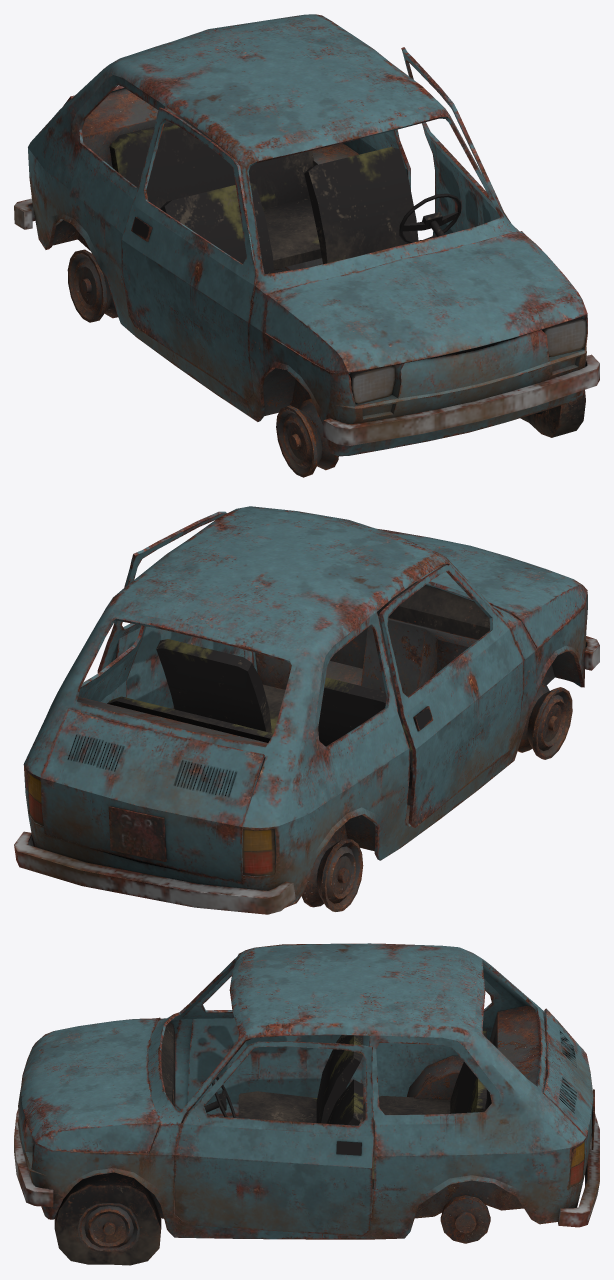
The model's file is fiat126p_artstation.dae.
The picture shows the model from 3 angles, top to bottom: view 1: azimuth 30°, elevation 25°; view 2: azimuth 150°, elevation 25°; view 3: azimuth 270°, elevation 25°; orthographic projection. The views are drawn at different scales.
Visible parts, largest first — view 1: body, floor, trunk, doors.001, axle_front, doors, axle_rear; view 2: body, hood, floor, doors.001, trunk, doors, axle_rear, axle_front; view 3: body, doors, floor, trunk, doors.001, axle_front, hood, axle_rear.
Boxes of the visible parts, left/top/right/bottom form: body: left=14, top=14, right=599, bottom=456; floor: left=52, top=88, right=461, bottom=415; trunk: left=265, top=231, right=587, bottom=372; doors.001: left=121, top=107, right=256, bottom=400; axle_front: left=276, top=390, right=585, bottom=477; doors: left=401, top=47, right=510, bottom=235; axle_rear: left=67, top=249, right=117, bottom=322; body: left=14, top=506, right=599, bottom=914; hood: left=40, top=709, right=264, bottom=882; floor: left=77, top=582, right=579, bottom=851; doors.001: left=379, top=565, right=523, bottom=827; trunk: left=378, top=529, right=587, bottom=647; doors: left=97, top=511, right=253, bottom=709; axle_rear: left=301, top=836, right=363, bottom=911; axle_front: left=518, top=682, right=572, bottom=759; body: left=14, top=943, right=599, bottom=1239; doors: left=174, top=1041, right=374, bottom=1236; floor: left=149, top=1005, right=545, bottom=1218; trunk: left=20, top=1017, right=160, bottom=1153; doors.001: left=175, top=968, right=369, bottom=1114; axle_front: left=54, top=1172, right=161, bottom=1265; hood: left=543, top=1008, right=594, bottom=1182; axle_rear: left=440, top=1195, right=490, bottom=1243.
Bounding box in the file's own units: 70.3 × 132 × 58.37.
Materials: 2 (2 with a texture image).
